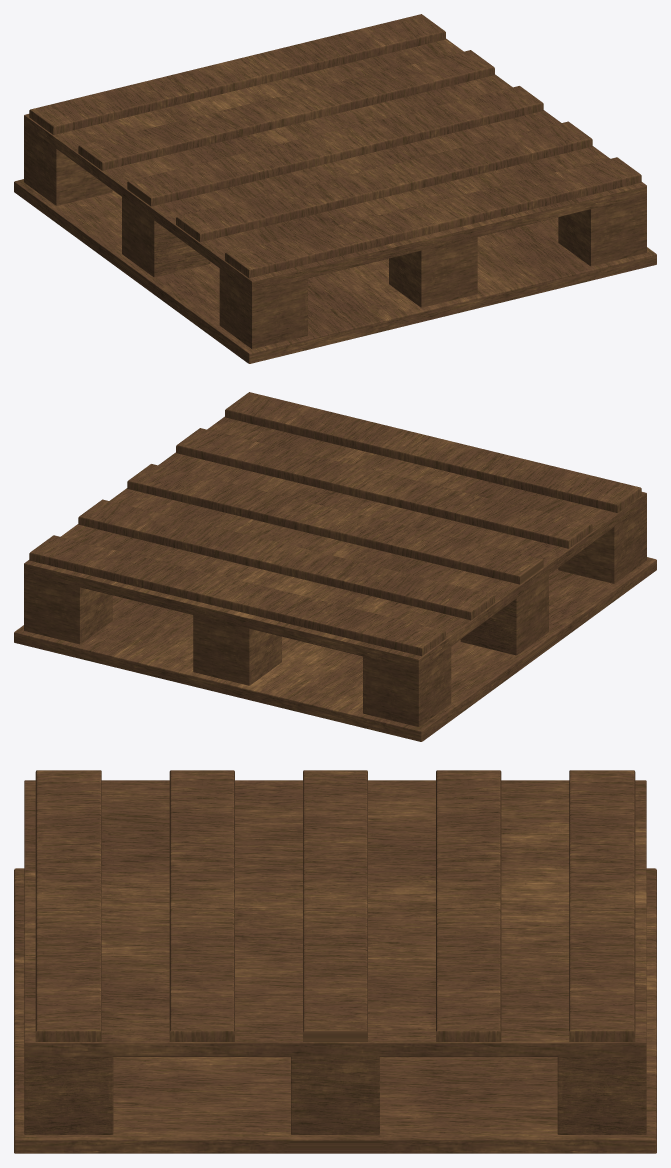
File: woodenPlatform.fbx
3 renders of one model, top to bottom at view 1: azimuth 30°, elevation 25°; view 2: azimuth 150°, elevation 25°; view 3: azimuth 270°, elevation 25°, orthographic. The views are drawn at different scales.
Parts seen in each view (by area): view 1: woodenPlatform_lo; view 2: woodenPlatform_lo; view 3: woodenPlatform_lo.
Part boxes in pixels (x1,y1,x2,y2): woodenPlatform_lo: [14, 14, 656, 363]; woodenPlatform_lo: [14, 392, 656, 741]; woodenPlatform_lo: [14, 770, 656, 1153].
Size of the model in its own units: 3.1 by 0.6278 by 3.1.
